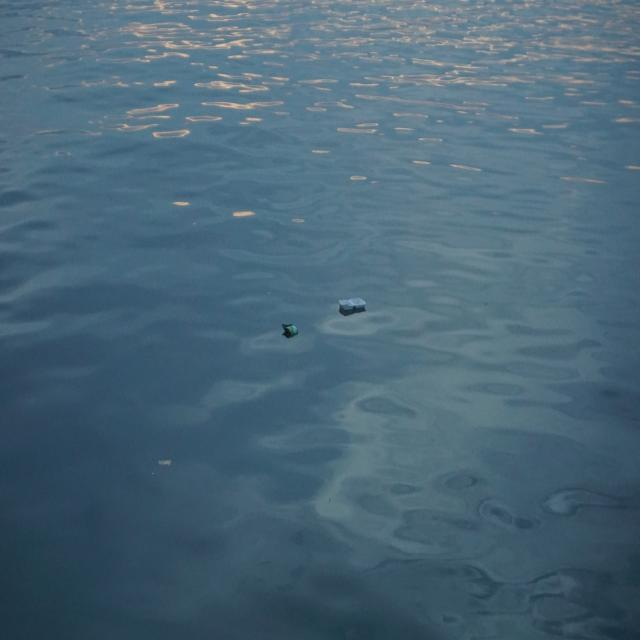Bungkus Makanan: (337, 290, 370, 323), (282, 322, 300, 341)
